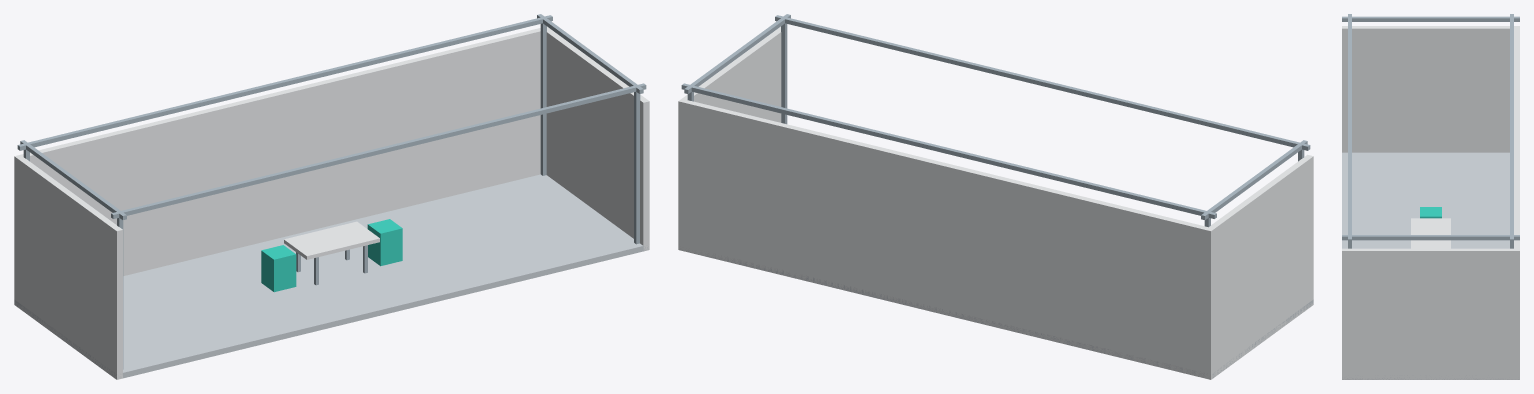
3 views of the same model, side by side, from view 1: azimuth 30°, elevation 25°; view 2: azimuth 150°, elevation 25°; view 3: azimuth 270°, elevation 25° (orthographic). The views are drawn at different scales.
Parts seen in each view (by area): view 1: Exhibition Booth Concept; view 2: Exhibition Booth Concept; view 3: Exhibition Booth Concept.
Part boxes in pixels (x1,y1,x2,y2): Exhibition Booth Concept: [14, 14, 649, 379]; Exhibition Booth Concept: [678, 14, 1313, 379]; Exhibition Booth Concept: [1342, 14, 1519, 379].
Size of the model in its own units: 12 by 3.49 by 4.
